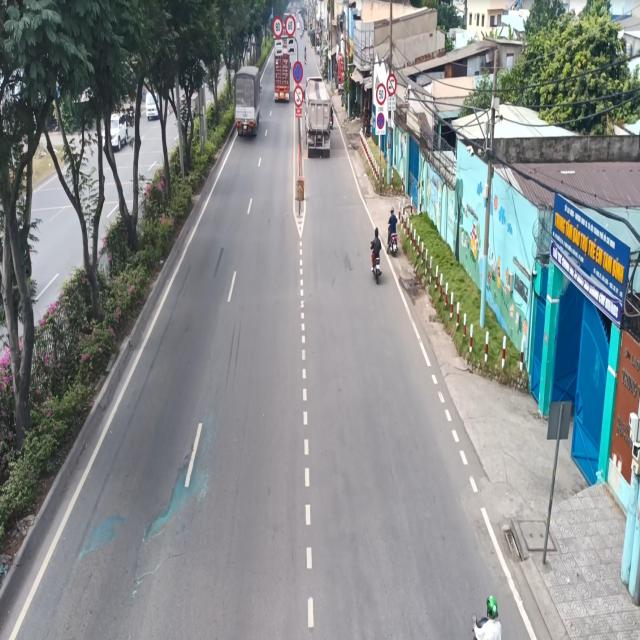motor: (368, 220, 386, 285), (384, 204, 403, 256)
truck: (232, 61, 263, 138)
